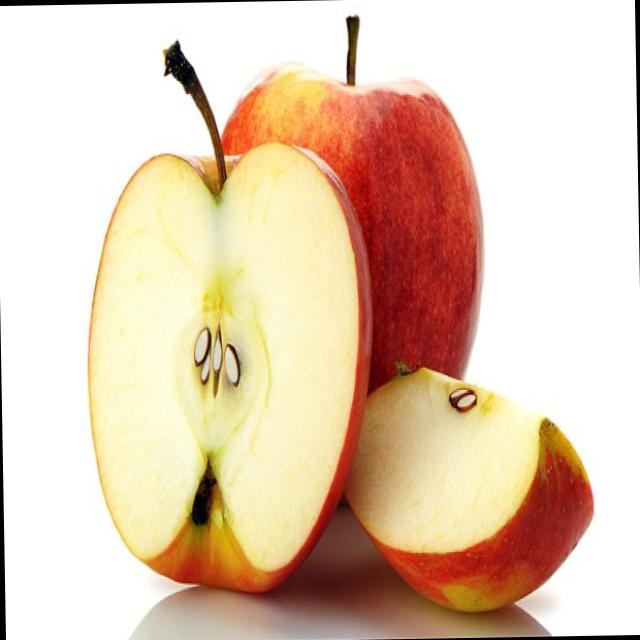apple: (203, 57, 488, 520)
